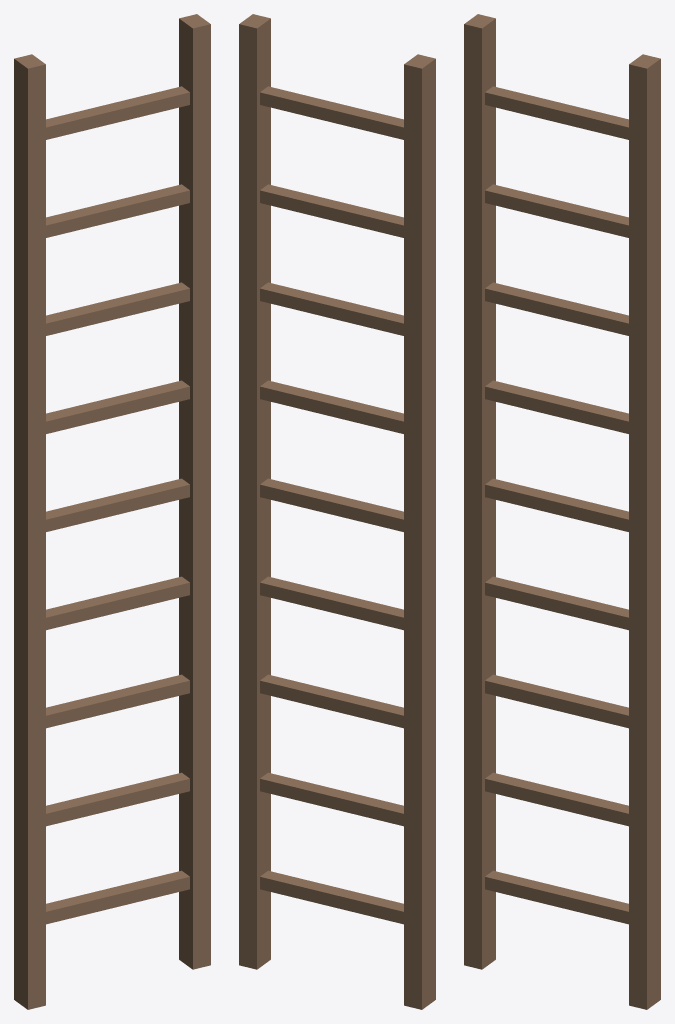
Rendered from kit_ladder.glb.
3 renders of one model, left to right at view 1: azimuth 30°, elevation 25°; view 2: azimuth 150°, elevation 25°; view 3: azimuth 330°, elevation 25°, orthographic.
Parts seen in each view (by area): view 1: kit_ladder; view 2: kit_ladder; view 3: kit_ladder.
Boxes of the visible parts, left/top/right/bottom form: kit_ladder: left=14, top=14, right=210, bottom=1009; kit_ladder: left=239, top=14, right=435, bottom=1009; kit_ladder: left=464, top=14, right=660, bottom=1009.
Bounding box in the file's own units: 0.6101 × 3 × 0.0798.
